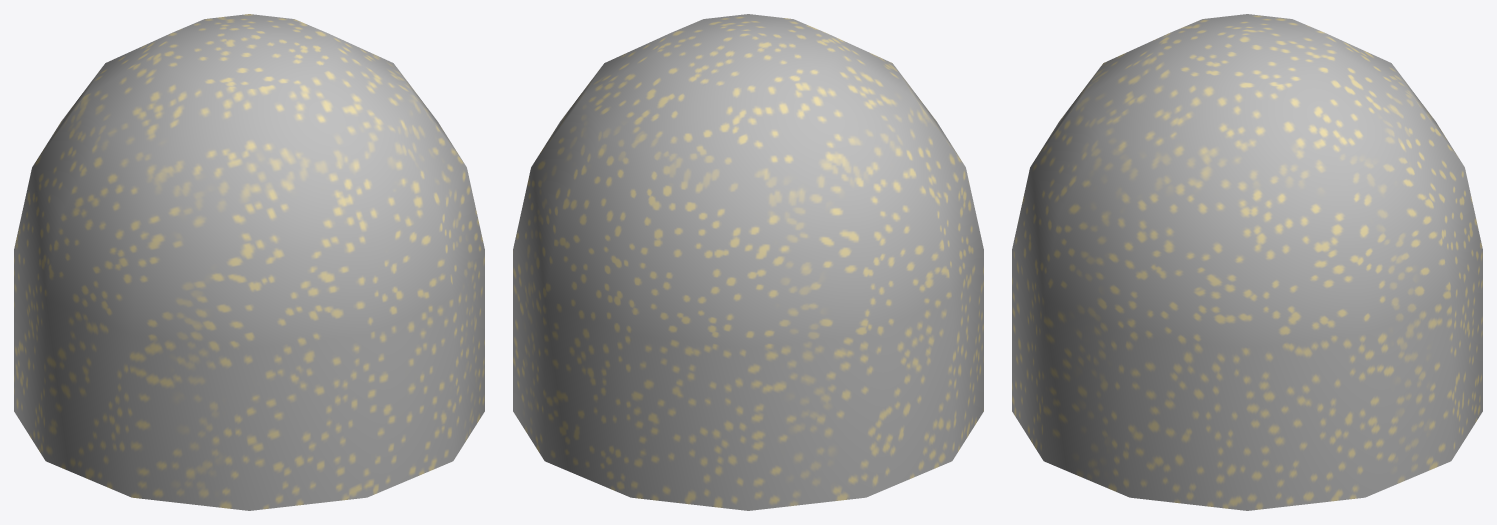
Rendered from KISSOFLIFE_01.glb.
3 views of the same model, side by side, from view 1: azimuth 30°, elevation 25°; view 2: azimuth 150°, elevation 25°; view 3: azimuth 270°, elevation 25° (orthographic).
Size of the model in its own units: 0.162 by 0.1608 by 0.162.
Materials: 1 (1 with a texture image).
